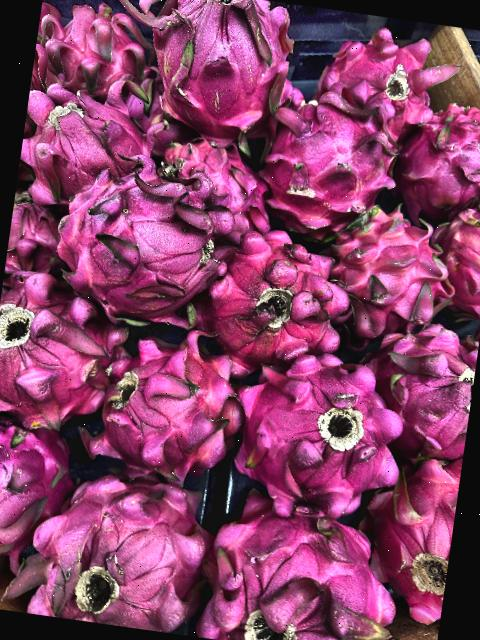buah-naga-matang: (195, 484, 413, 640), (30, 456, 215, 636), (230, 348, 418, 522), (43, 161, 228, 333), (197, 219, 367, 380), (86, 334, 250, 488), (121, 0, 298, 136), (308, 196, 463, 342), (0, 264, 129, 433), (247, 84, 398, 228), (341, 307, 480, 463), (17, 84, 168, 203), (312, 30, 454, 127), (381, 83, 480, 219), (0, 417, 76, 573), (30, 0, 143, 102), (422, 191, 480, 311)
